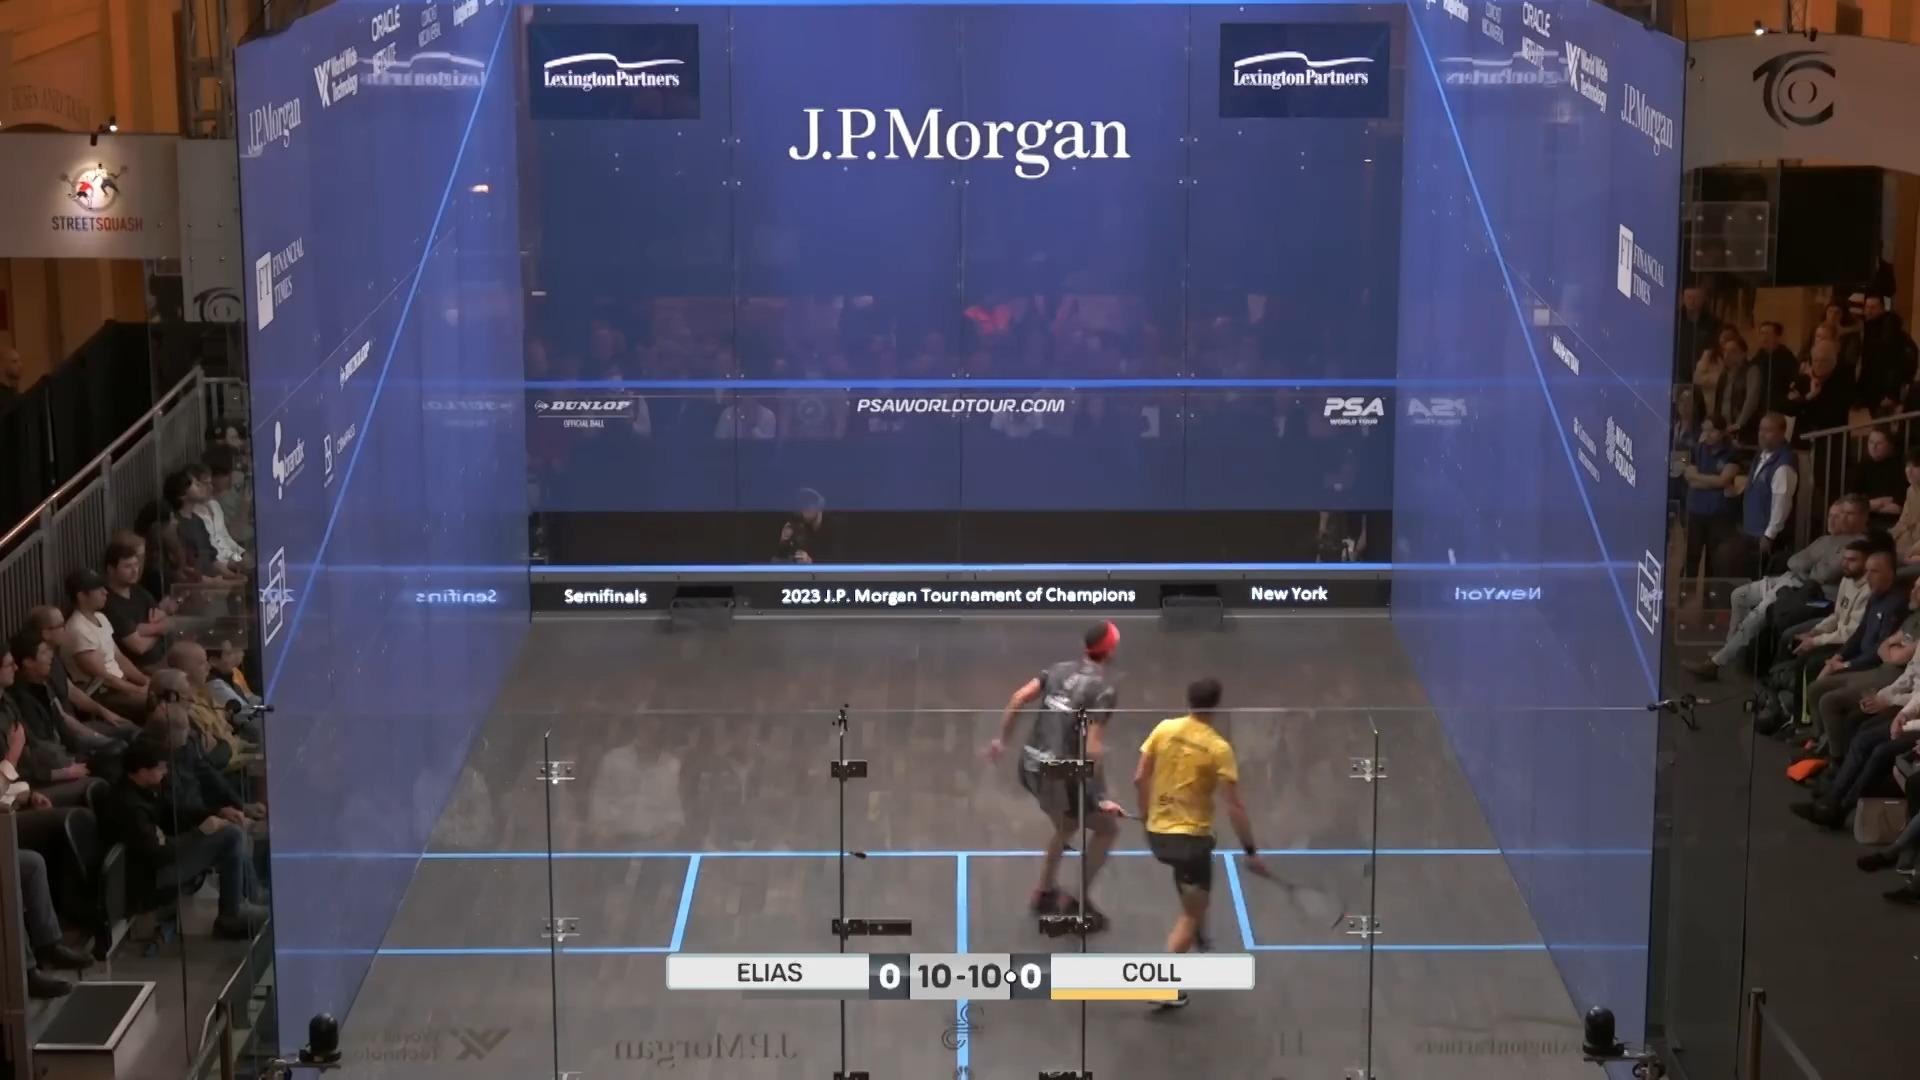Racket: (1266, 862, 1353, 936)
